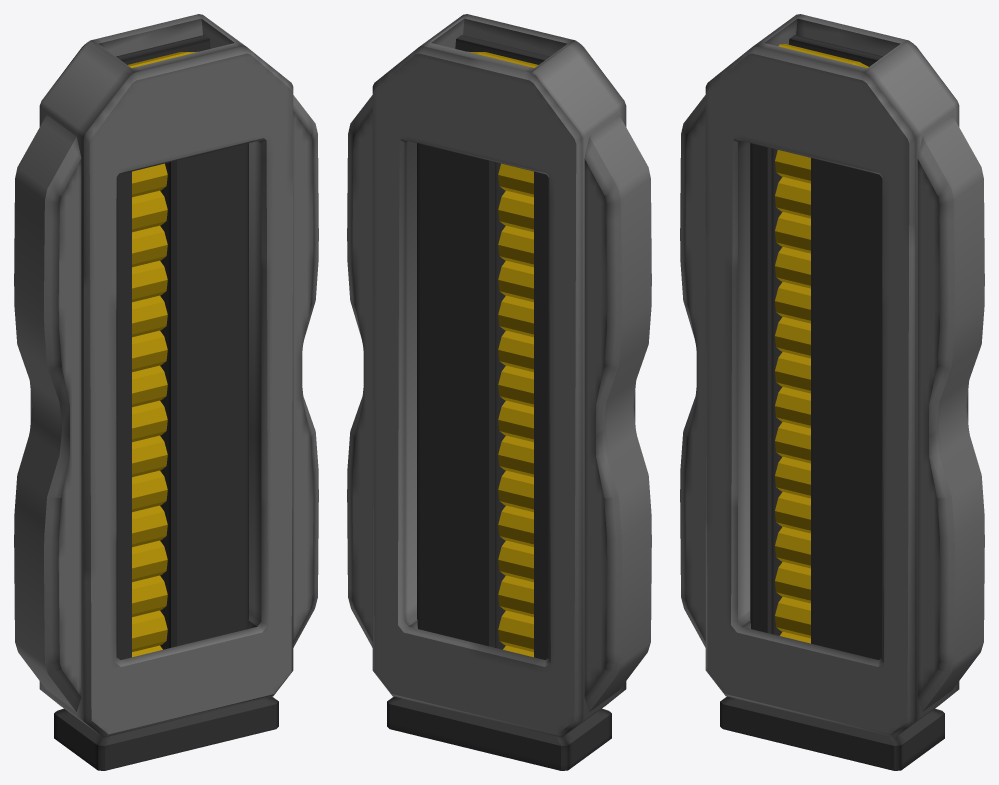
Rendered from Magazine_Regular.fbx.
3 renders of one model, left to right at view 1: azimuth 30°, elevation 25°; view 2: azimuth 150°, elevation 25°; view 3: azimuth 330°, elevation 25°, orthographic.
Visible parts, largest first — view 1: Box003.001, Cylinder017; view 2: Box003.001, Cylinder017; view 3: Box003.001, Cylinder017.
Boxes of the visible parts, x1=… form: Box003.001: x1=14, y1=14, x2=318, y2=737; Cylinder017: x1=54, y1=35, x2=278, y2=770; Box003.001: x1=347, y1=14, x2=651, y2=737; Cylinder017: x1=387, y1=35, x2=611, y2=770; Box003.001: x1=680, y1=14, x2=984, y2=737; Cylinder017: x1=720, y1=35, x2=944, y2=770.
Bounding box in the file's own units: 28.49 × 68.25 × 8.98.
